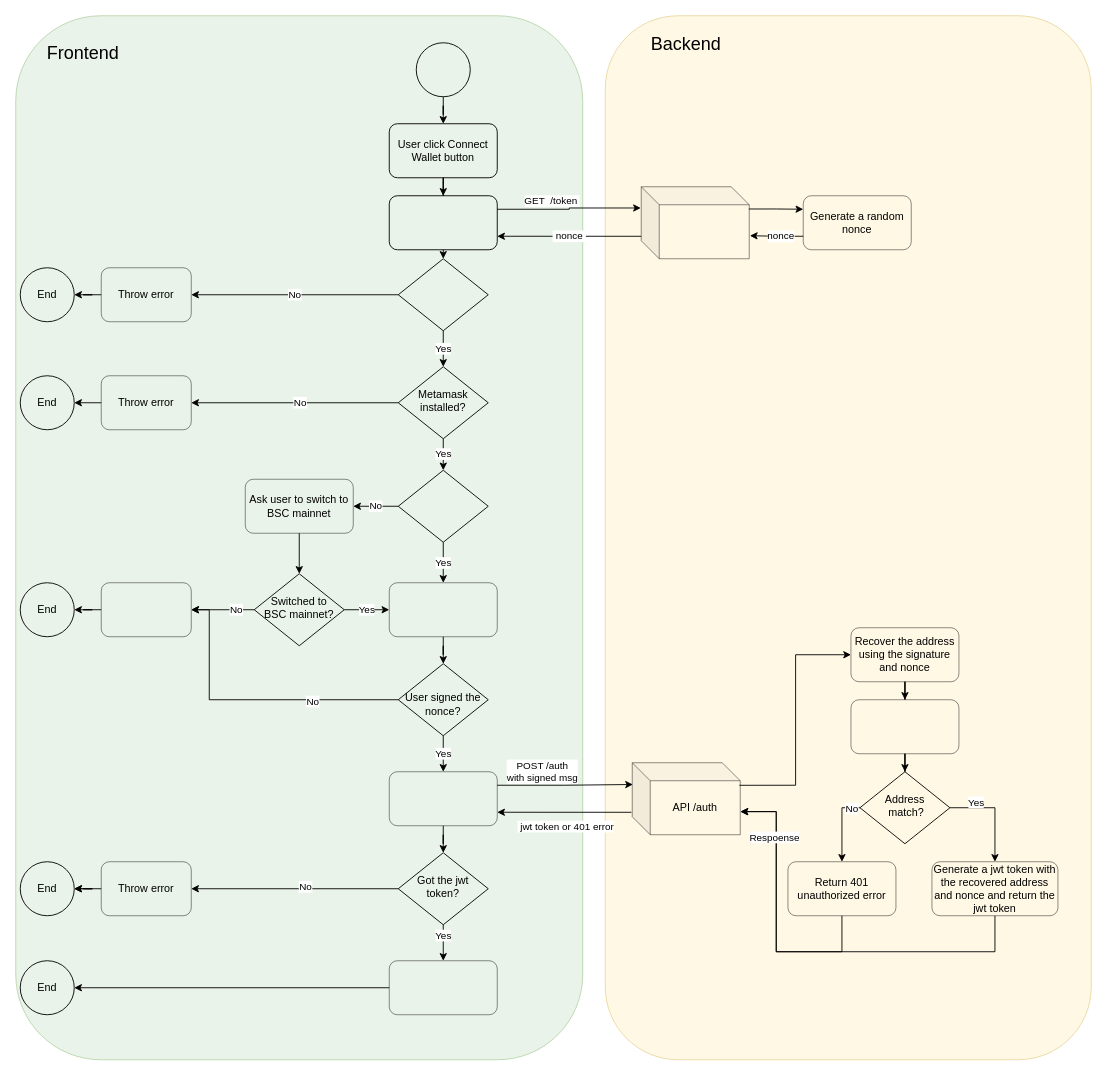
The diagram is 1107 pixels wide and 1076 high, and some of its shapes have lost their labels. Each missing label, with the centre of its shape:
"API /token" belongs at pixel 694 222.
"Ask user to sign the nonce" belongs at pixel 442 609.
"Compare the recovered address with user's address" belongs at pixel 904 726.
"Get nonce from backend" belongs at pixel 442 222.
"Got nonce?" belongs at pixel 442 294.
"Login finished" belongs at pixel 442 987.
"Send the signed msg to backend" belongs at pixel 442 798.
"Start" belongs at pixel 442 69.
"Throw alert" belongs at pixel 145 609.
"Using BSC mainnet?" belongs at pixel 442 505.
